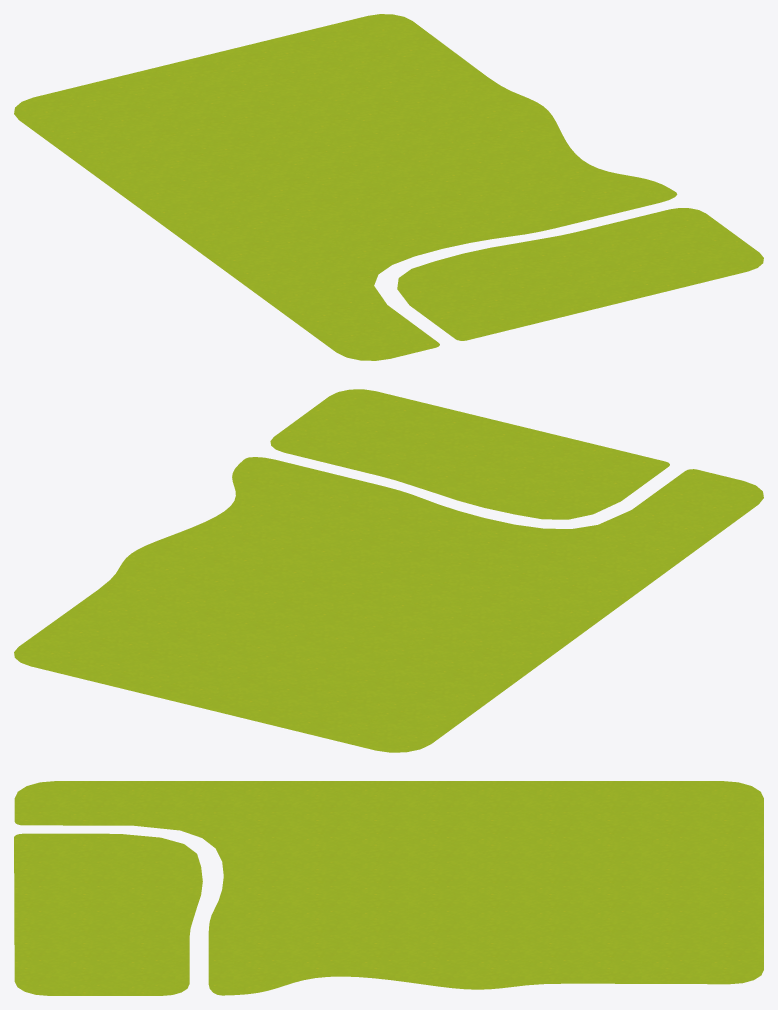
The model's file is Ground_NavMesh.fbx.
3 renders of one model, top to bottom at view 1: azimuth 30°, elevation 25°; view 2: azimuth 150°, elevation 25°; view 3: azimuth 270°, elevation 25°, orthographic. The views are drawn at different scales.
Visible parts, largest first — view 1: Ground_NavMesh; view 2: Ground_NavMesh; view 3: Ground_NavMesh.
Boxes of the visible parts, bbox=[...] form: Ground_NavMesh: bbox=[14, 14, 763, 360]; Ground_NavMesh: bbox=[14, 389, 763, 752]; Ground_NavMesh: bbox=[14, 781, 763, 995].
Bounding box in the file's own units: 5974 × 2.98e-06 × 8810.
